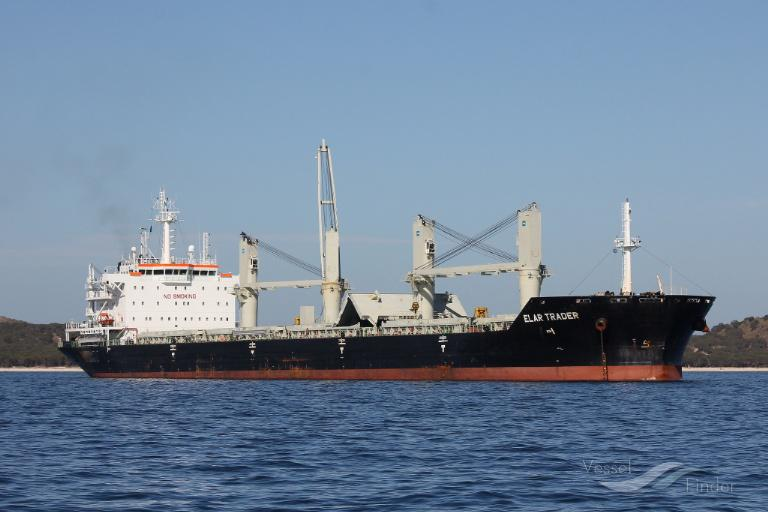OCR: (519, 309, 581, 328)
